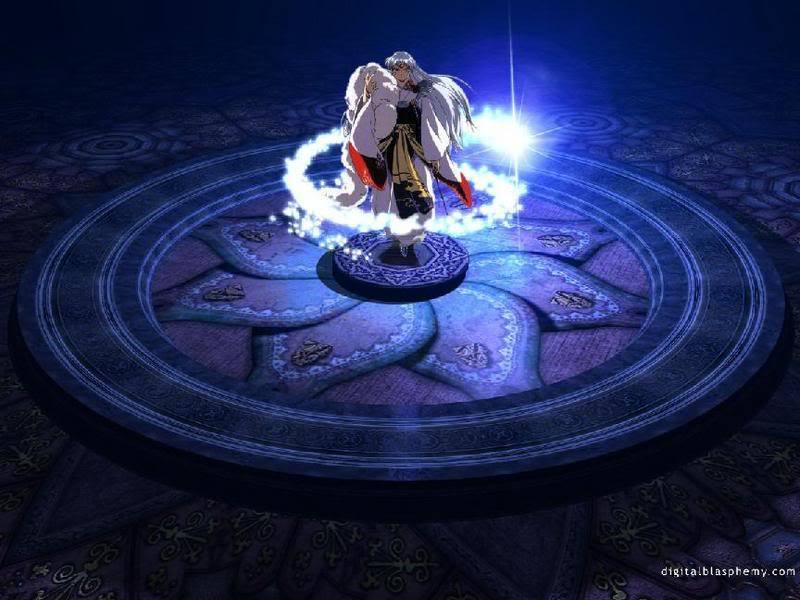sesshomaru: (379, 51, 433, 100)
